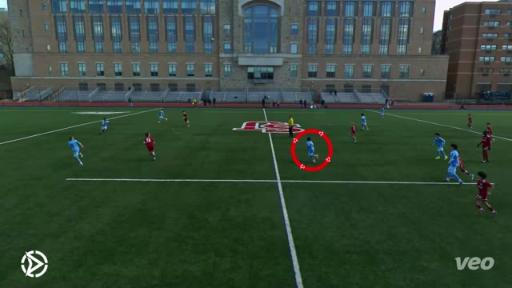highlight_overlay: (287, 127, 335, 174)
